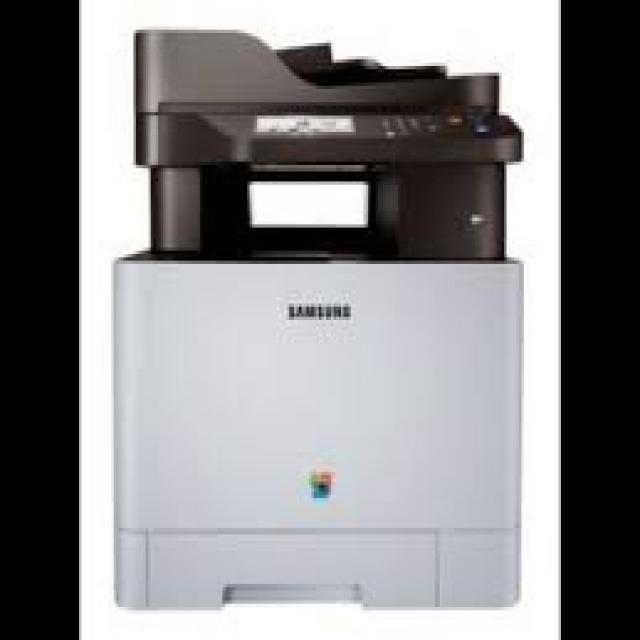printer: (106, 17, 529, 635)
